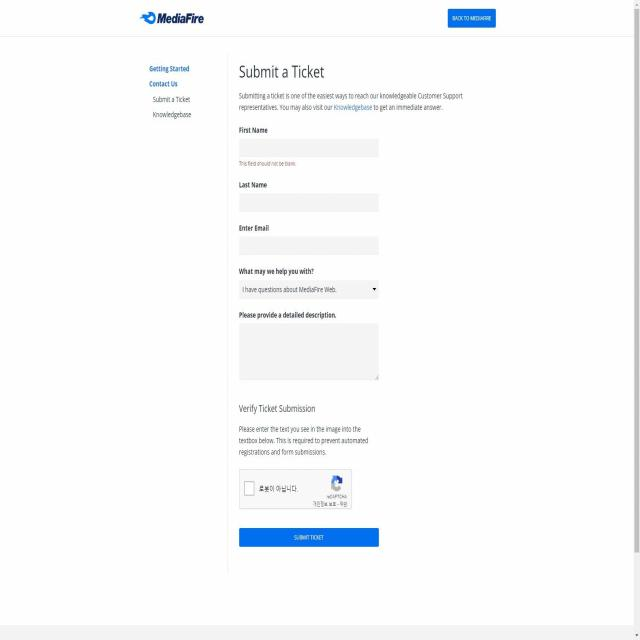button: (238, 527, 379, 548), (448, 8, 497, 29)
checkbox: (239, 468, 352, 509)
select: (240, 280, 380, 300)
